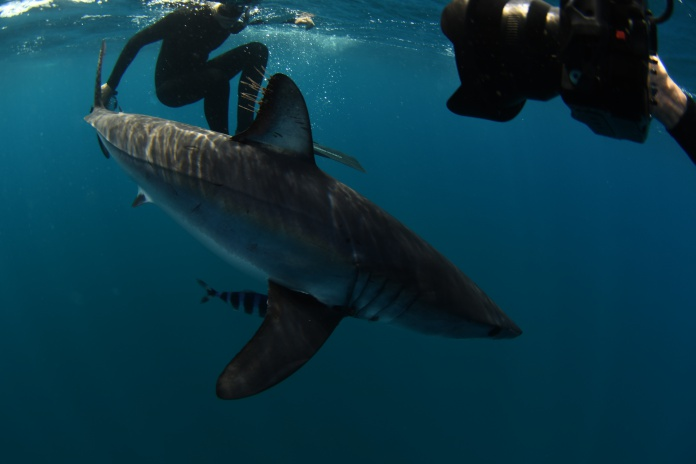Mako: (60, 33, 556, 413)
